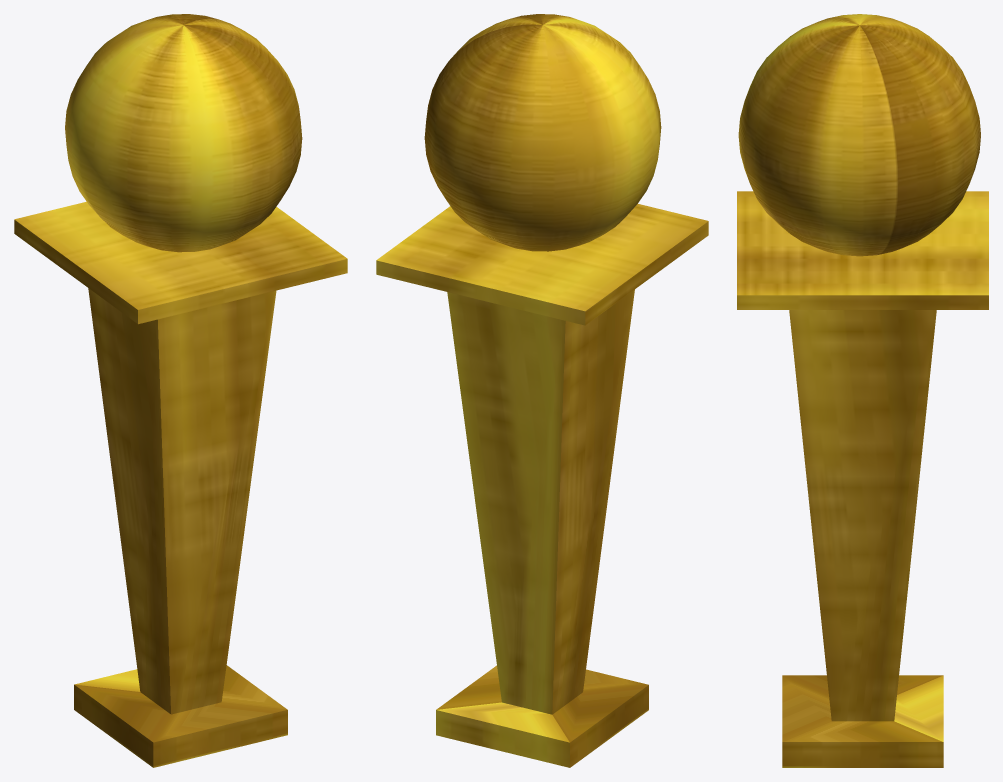
The model's file is Trophy_Textured.fbx.
3 renders of one model, left to right at view 1: azimuth 30°, elevation 25°; view 2: azimuth 150°, elevation 25°; view 3: azimuth 270°, elevation 25°, orthographic.
Visible parts, largest first — view 1: pSphere2; view 2: pSphere2; view 3: pSphere2.
Boxes of the visible parts, <box> form: pSphere2: <box>14,14,347,767</box>; pSphere2: <box>376,14,708,767</box>; pSphere2: <box>737,14,988,767</box>.
Bounding box in the file's own units: 0.6358 × 2.02 × 0.6501.
1 material, 1 textured.
